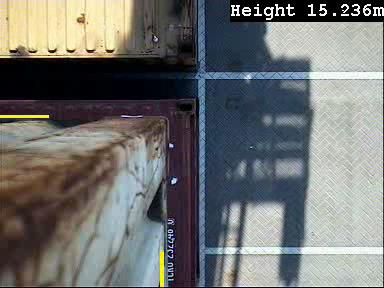groundmarker_2: (196, 18, 268, 103)
